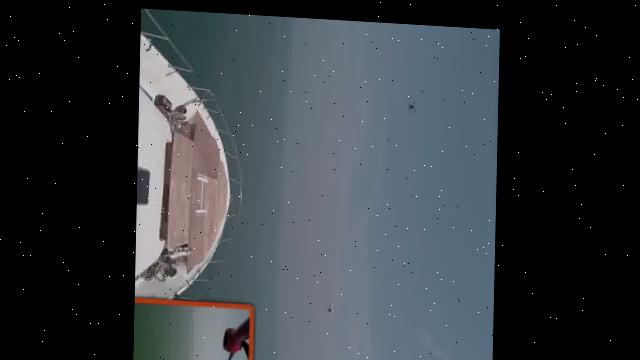drone: (402, 84, 421, 117), (320, 297, 346, 318)
